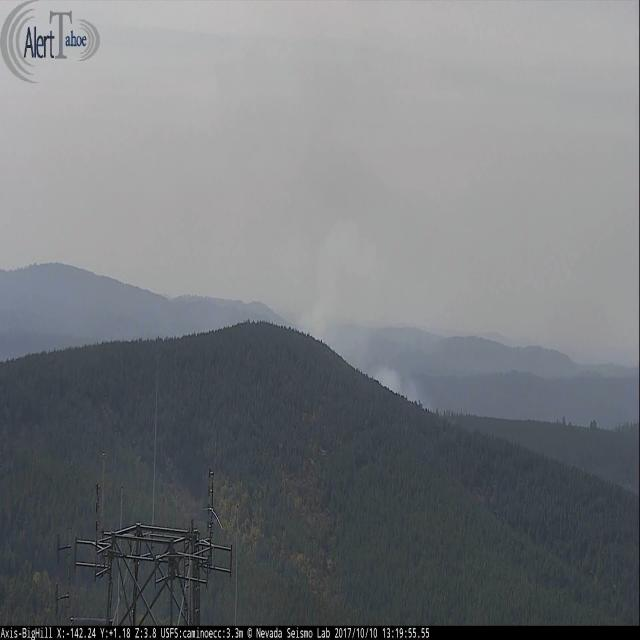smoke: (301, 212, 442, 419)
